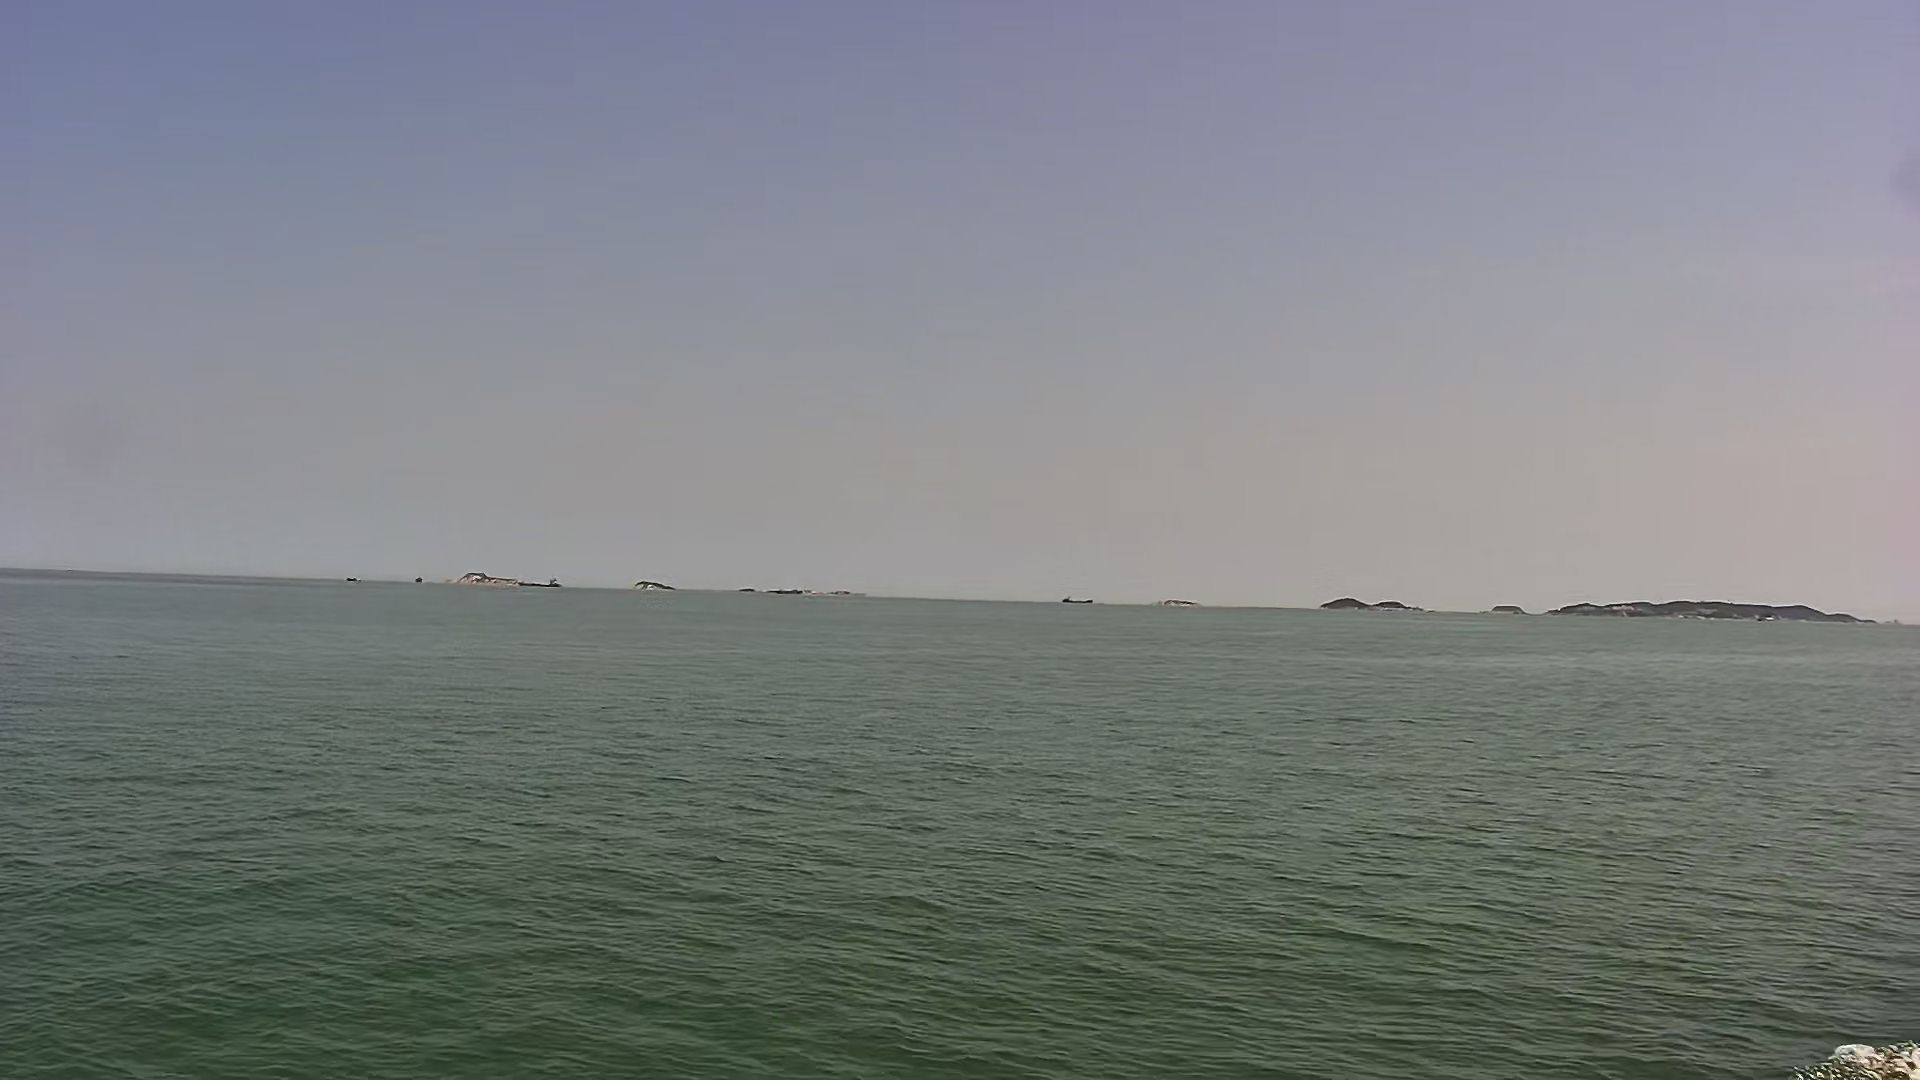rock: (1489, 597, 1904, 630), (440, 567, 568, 589), (1307, 595, 1437, 616)
